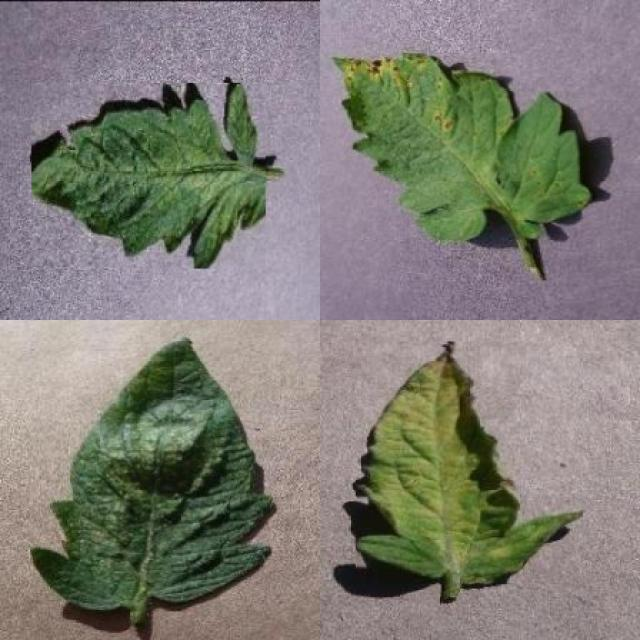Leaf Mold: (356, 342, 583, 584)
Mosaic Virus: (32, 84, 267, 269)
Septoria: (332, 54, 588, 239)
Spider Mites: (29, 338, 272, 612)
